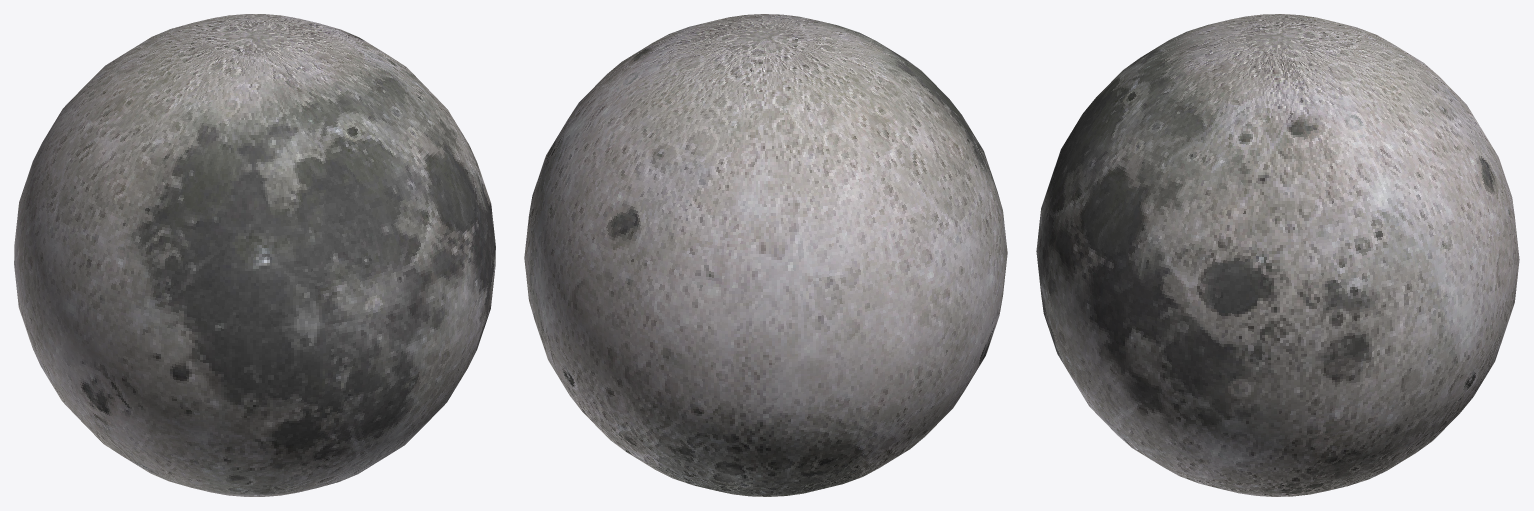
Rendered from moon.glb.
The picture shows the model from 3 angles, left to right: view 1: azimuth 30°, elevation 25°; view 2: azimuth 150°, elevation 25°; view 3: azimuth 270°, elevation 25°; orthographic projection.
Parts seen in each view (by area): view 1: moon; view 2: moon; view 3: moon.
Part boxes in pixels (left/top/right/bottom): moon: left=14, top=14, right=495, bottom=496; moon: left=524, top=14, right=1007, bottom=496; moon: left=1036, top=14, right=1519, bottom=496.
Bounding box in the file's own units: 2 × 2 × 2.
Materials: 1 (1 with a texture image).
